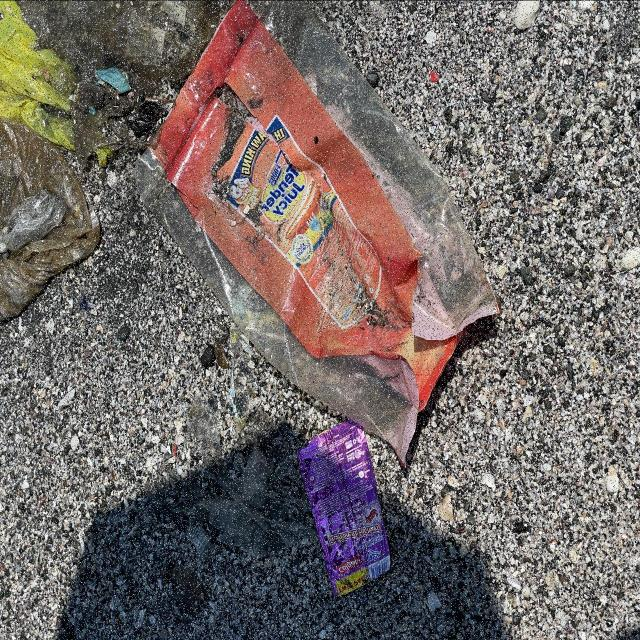plastic_waste: (130, 1, 502, 471), (296, 419, 390, 598), (1, 1, 78, 150)
